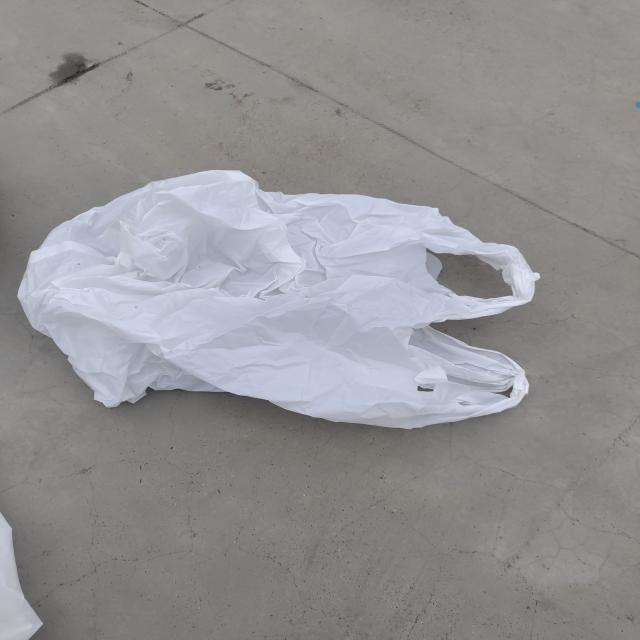plastic: (22, 130, 570, 494)
